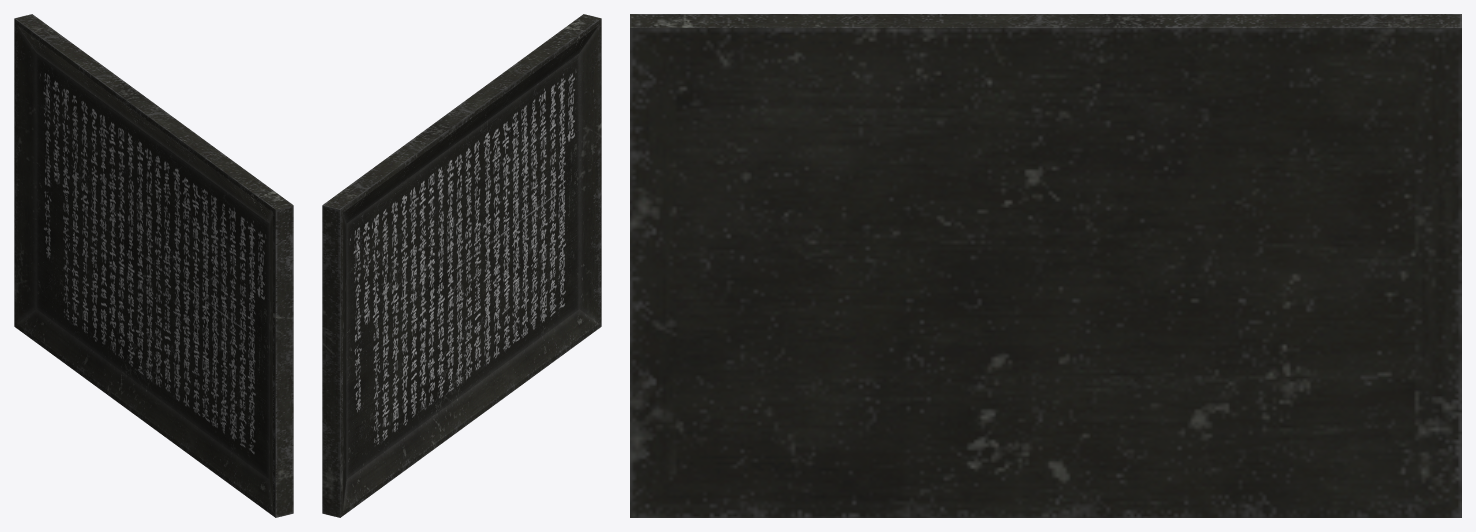
File: SM_GPG_Tablet01c.fbx
3 views of the same model, side by side, from view 1: azimuth 30°, elevation 25°; view 2: azimuth 150°, elevation 25°; view 3: azimuth 270°, elevation 25° (orthographic). The views are drawn at different scales.
Parts seen in each view (by area): view 1: SM_GPG_Tablet01c; view 2: SM_GPG_Tablet01c; view 3: SM_GPG_Tablet01c.
Boxes of the visible parts, box(x1,y1,x2,y2) form: SM_GPG_Tablet01c: box(14, 14, 293, 517); SM_GPG_Tablet01c: box(322, 14, 601, 517); SM_GPG_Tablet01c: box(630, 14, 1461, 517).
Size of the model in its own units: 4 by 100 by 65.
Materials: 1 (1 with a texture image).
